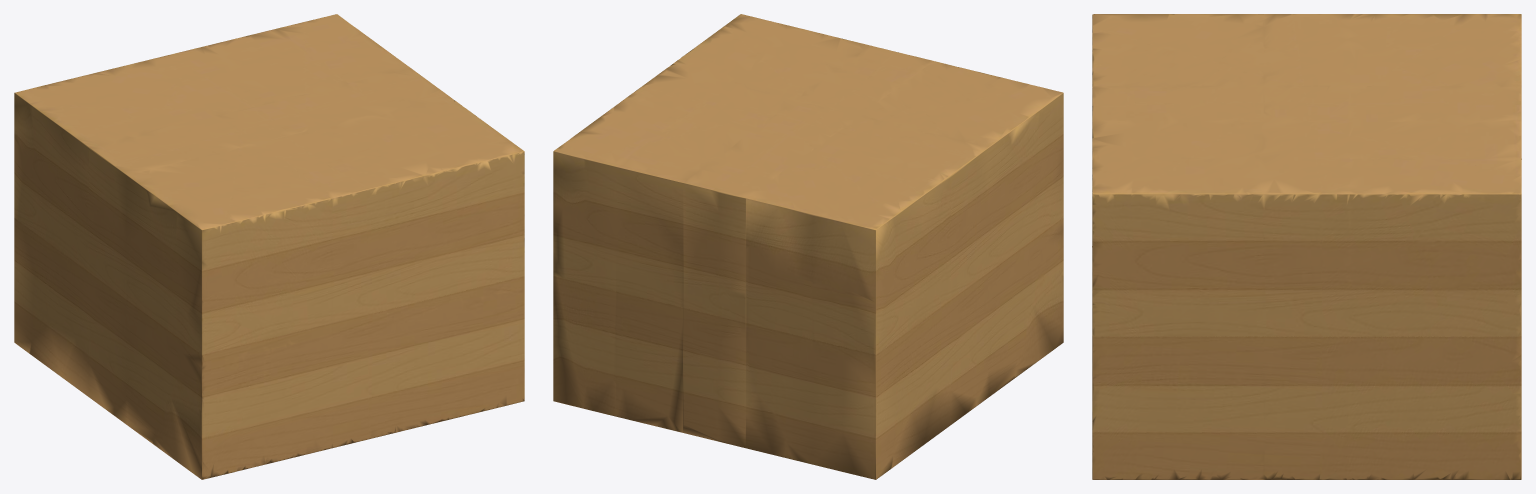
File: KR_사물_s1_floor_jangpan_old.glb
The picture shows the model from 3 angles, left to right: view 1: azimuth 30°, elevation 25°; view 2: azimuth 150°, elevation 25°; view 3: azimuth 270°, elevation 25°; orthographic projection. The views are drawn at different scales.
Visible parts, largest first — view 1: tripo_node_8dbf2946-aaa9-4ce6-b726-c40ccb4109d2; view 2: tripo_node_8dbf2946-aaa9-4ce6-b726-c40ccb4109d2; view 3: tripo_node_8dbf2946-aaa9-4ce6-b726-c40ccb4109d2.
Boxes of the visible parts, left/top/right/bottom form: tripo_node_8dbf2946-aaa9-4ce6-b726-c40ccb4109d2: left=14, top=14, right=524, bottom=479; tripo_node_8dbf2946-aaa9-4ce6-b726-c40ccb4109d2: left=553, top=14, right=1063, bottom=479; tripo_node_8dbf2946-aaa9-4ce6-b726-c40ccb4109d2: left=1092, top=14, right=1521, bottom=479.
Size of the model in its own units: 0.9928 by 0.7352 by 0.9999.
1 material, 1 textured.
